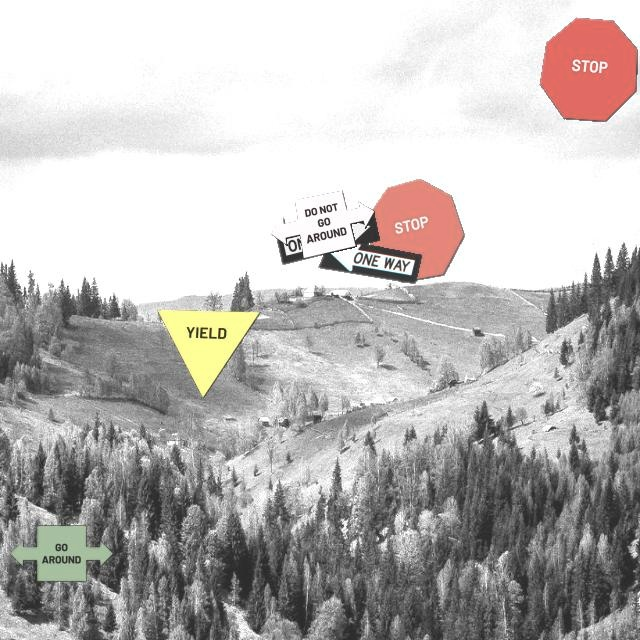DO_NOT_GO_AROUND: (270, 190, 375, 259)
GO_AROUND: (9, 525, 114, 582)
ONE_WAY_ left: (317, 237, 422, 284)
ONE_WAY_ right: (275, 209, 380, 265)
STOP: (539, 17, 638, 122), (367, 178, 465, 283)
YIELD: (156, 309, 261, 399)
